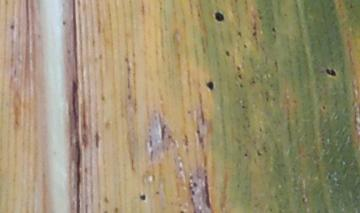tarspot: (213, 10, 225, 22), (325, 66, 337, 77), (206, 80, 215, 92), (138, 192, 146, 202), (255, 148, 263, 157), (223, 49, 231, 57), (269, 25, 277, 33), (9, 22, 15, 31), (187, 172, 193, 181), (60, 19, 67, 26), (320, 104, 327, 111), (240, 103, 247, 110), (236, 64, 242, 72), (195, 127, 201, 135), (238, 82, 244, 89), (237, 31, 243, 38), (242, 151, 248, 158), (192, 181, 198, 188), (237, 72, 242, 80), (242, 43, 248, 49), (252, 30, 257, 37), (191, 189, 196, 196), (258, 14, 263, 21), (252, 23, 257, 30), (250, 79, 256, 84), (114, 206, 118, 213), (177, 210, 185, 213)
